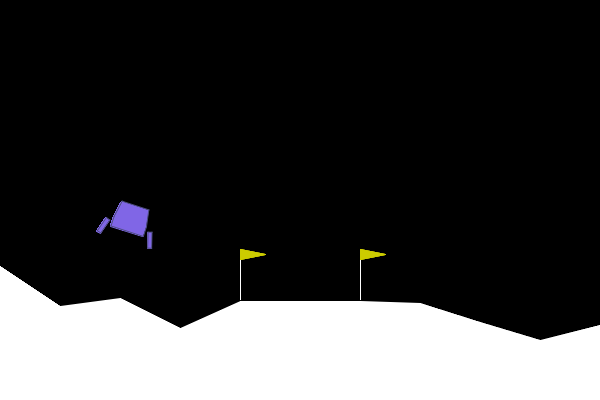lander: (95, 195, 164, 251)
